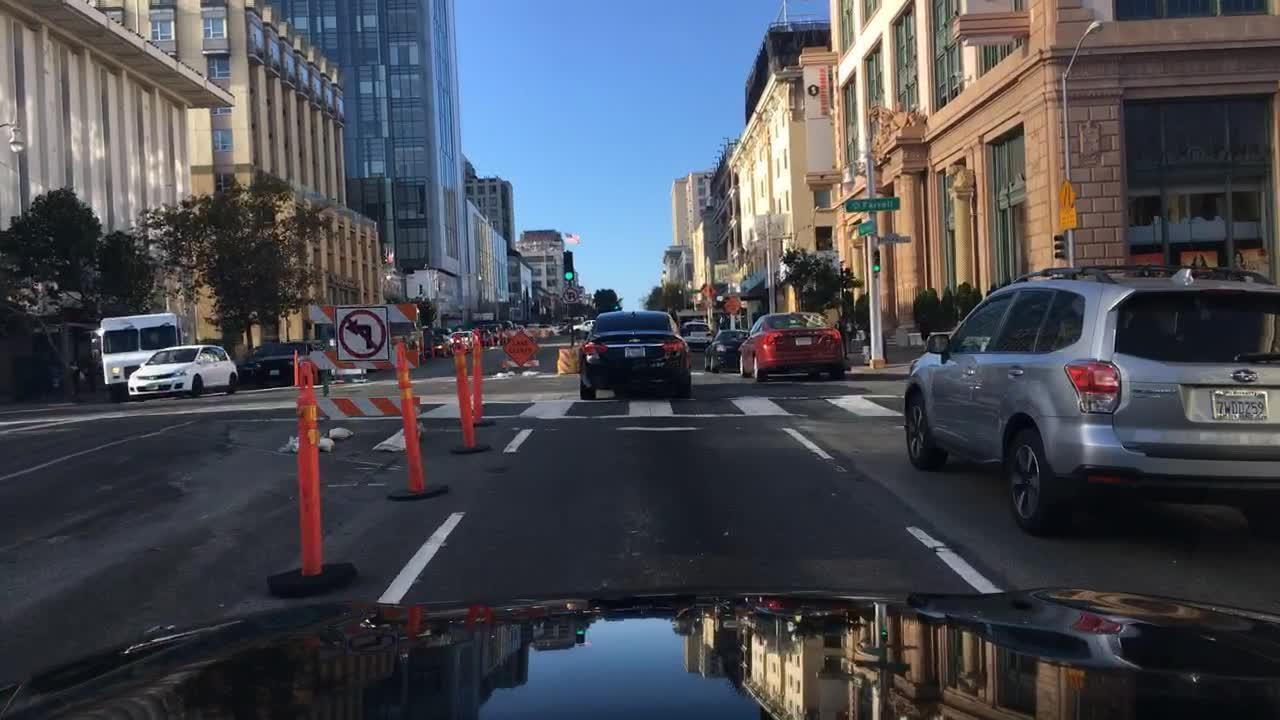chevrolet: (626, 336, 644, 344)
subaru: (1228, 367, 1270, 392)
